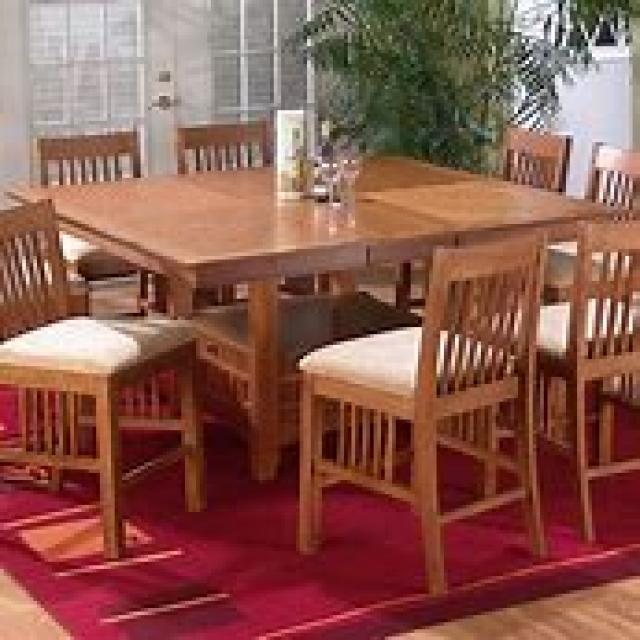chair: (292, 227, 548, 594), (0, 196, 207, 558)
